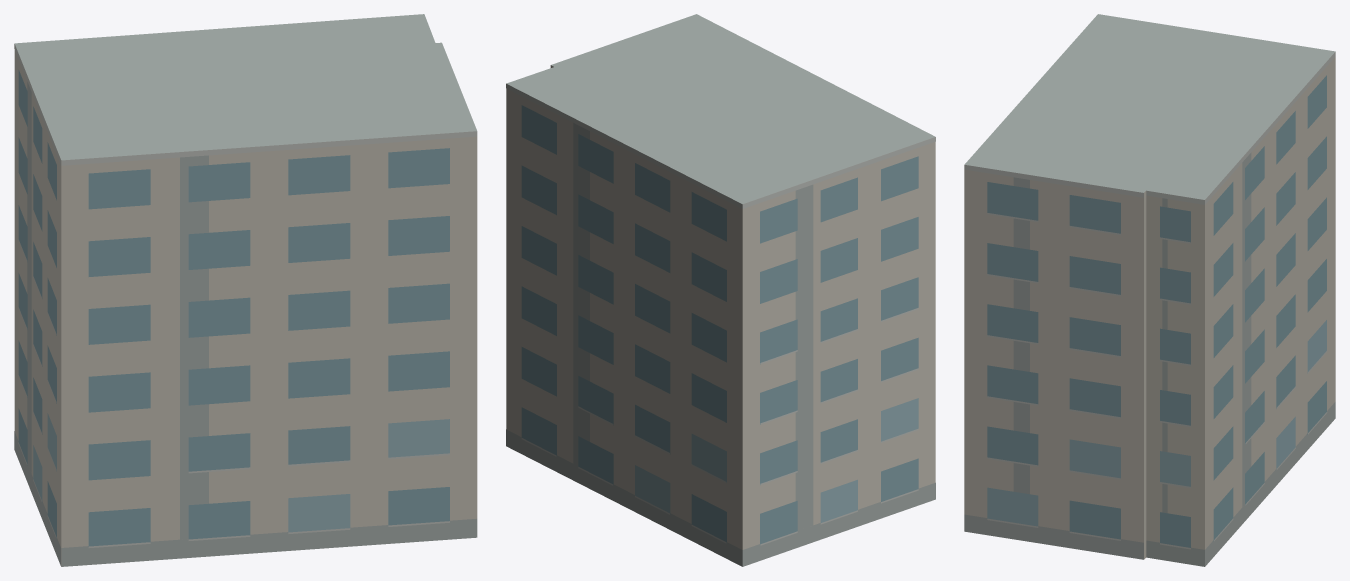
File: survey-upis-32879703.glb
3 renders of one model, left to right at view 1: azimuth 30°, elevation 25°; view 2: azimuth 150°, elevation 25°; view 3: azimuth 270°, elevation 25°, orthographic. The views are drawn at different scales.
Visible parts, largest first — view 1: survey-upis-32879703.tmp; view 2: survey-upis-32879703.tmp; view 3: survey-upis-32879703.tmp.
Boxes of the visible parts, bbox=[...] form: survey-upis-32879703.tmp: bbox=[14, 14, 477, 566]; survey-upis-32879703.tmp: bbox=[506, 14, 935, 566]; survey-upis-32879703.tmp: bbox=[964, 14, 1335, 566].
Size of the model in its own units: 19.91 by 18.3 by 16.8.
